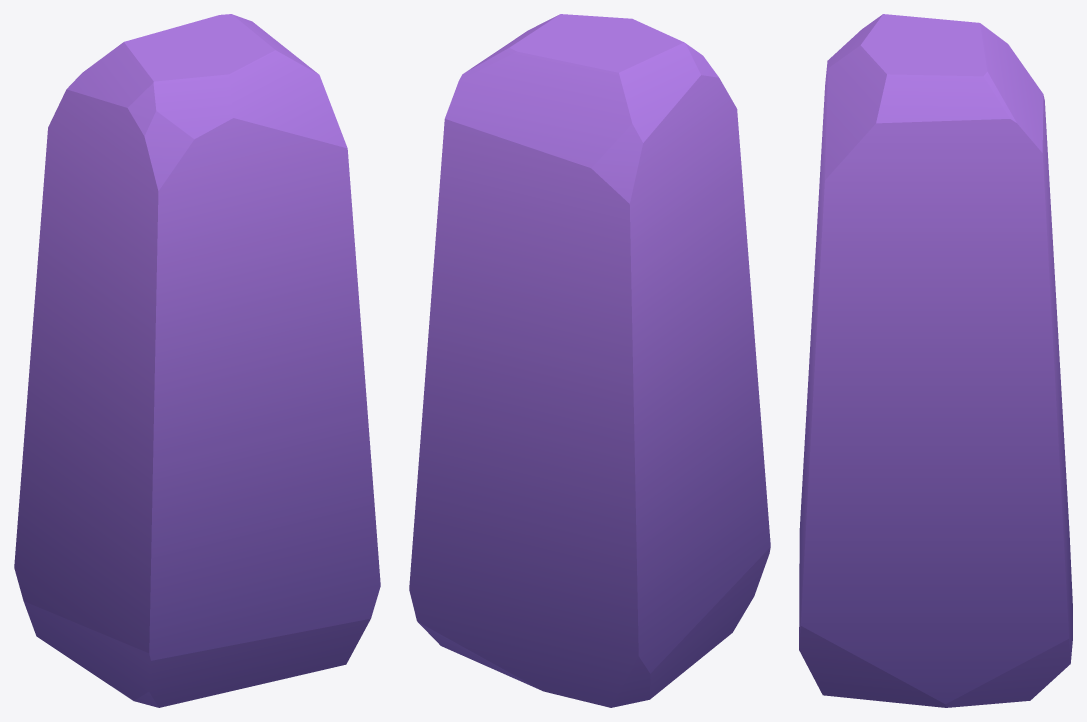
File: Crystal_P_17.glb
3 views of the same model, side by side, from view 1: azimuth 30°, elevation 25°; view 2: azimuth 150°, elevation 25°; view 3: azimuth 270°, elevation 25° (orthographic).
Visible parts, largest first — view 1: crystal_17; view 2: crystal_17; view 3: crystal_17.
Part boxes in pixels (box(x1,y1,x2,y2)): crystal_17: box(14, 14, 380, 707); crystal_17: box(409, 14, 770, 707); crystal_17: box(799, 14, 1072, 707).
Size of the model in its own units: 0.4136 by 1 by 0.4124.
Materials: 1 (1 with a texture image).
